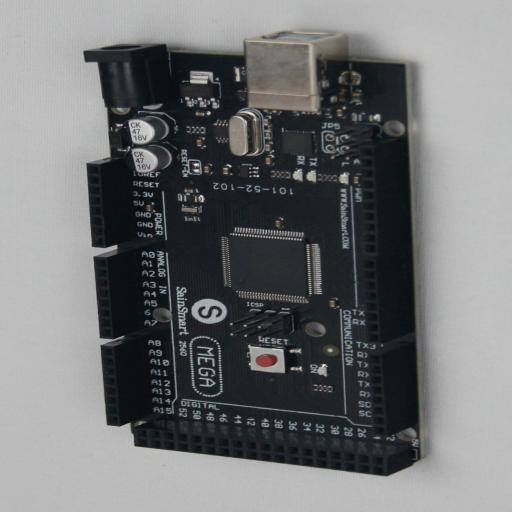Arduino Mega 2560 -Black-: (83, 32, 427, 476)
